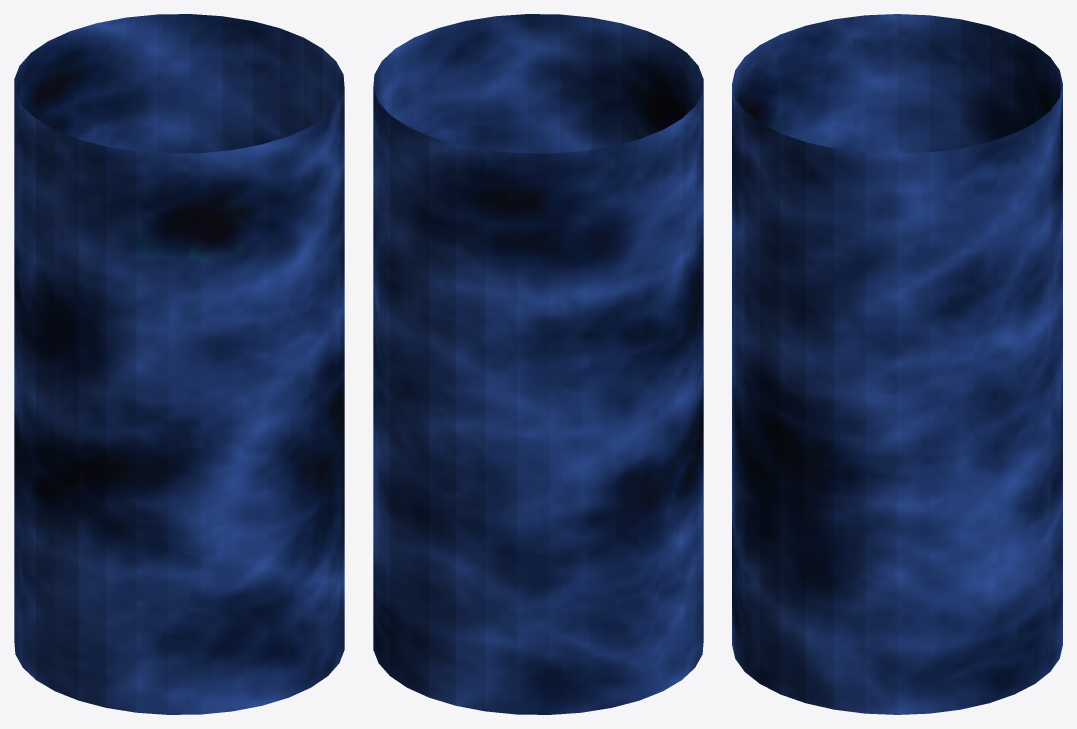
The model's file is title cylinder.obj.
3 views of the same model, side by side, from view 1: azimuth 30°, elevation 25°; view 2: azimuth 150°, elevation 25°; view 3: azimuth 270°, elevation 25° (orthographic).
Parts seen in each view (by area): view 1: Cylinder_Cylinder.001; view 2: Cylinder_Cylinder.001; view 3: Cylinder_Cylinder.001.
Boxes of the visible parts, x1,y1,x2,y2 form: Cylinder_Cylinder.001: (14,14,344,714); Cylinder_Cylinder.001: (373,14,703,714); Cylinder_Cylinder.001: (732,14,1062,714).
Size of the model in its own units: 2.94 by 5.5 by 2.94.
